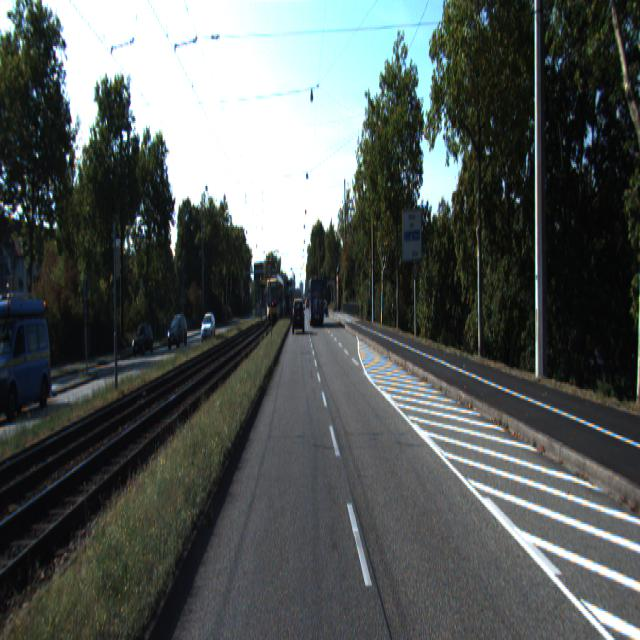Car: (0, 304, 55, 422), (308, 276, 324, 326), (167, 314, 188, 350), (200, 314, 217, 345), (293, 298, 304, 334)
